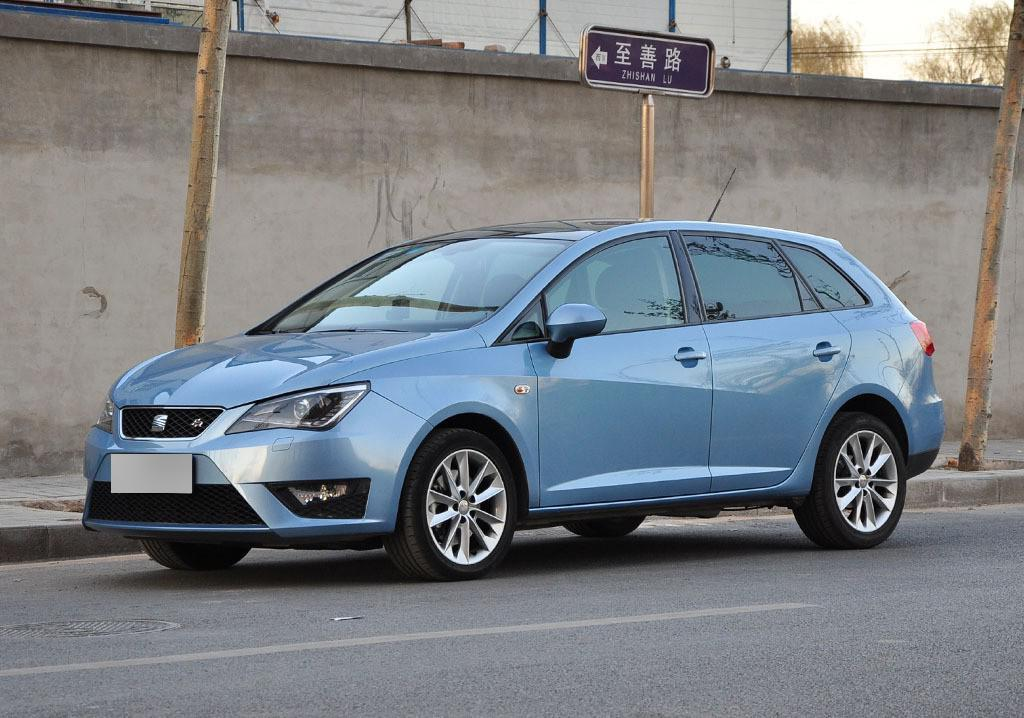Wagon: (78, 219, 941, 580)
